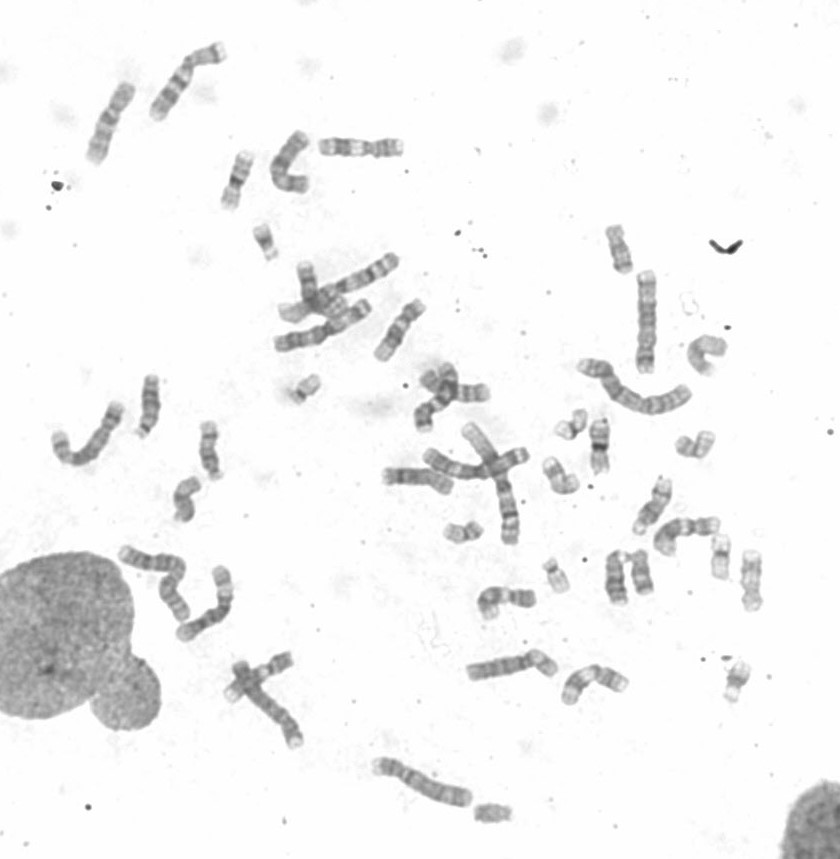chromosomes: (271, 249, 404, 328), (457, 418, 523, 546), (148, 39, 235, 130), (230, 657, 308, 753), (576, 359, 695, 416), (116, 540, 197, 623), (270, 296, 375, 355), (370, 752, 475, 810), (49, 396, 124, 474), (82, 78, 142, 175), (166, 564, 235, 646), (419, 444, 532, 483), (368, 296, 429, 367), (218, 648, 296, 703), (561, 662, 633, 715), (270, 129, 321, 200), (465, 647, 560, 684), (415, 360, 459, 436), (297, 260, 350, 318), (420, 366, 497, 405), (632, 473, 675, 541), (650, 516, 723, 556), (636, 268, 662, 379), (376, 464, 458, 497), (218, 148, 257, 217), (132, 369, 167, 444), (474, 583, 537, 621), (317, 137, 407, 163), (686, 333, 734, 380), (585, 417, 618, 484), (197, 415, 228, 486), (740, 548, 769, 621), (170, 473, 202, 531), (604, 223, 636, 281), (718, 659, 756, 705), (604, 549, 633, 609), (542, 453, 582, 496), (669, 427, 719, 460), (552, 405, 591, 445), (250, 219, 280, 270), (540, 552, 572, 599), (281, 373, 325, 406), (711, 530, 735, 585), (442, 518, 489, 546), (634, 549, 657, 600), (474, 801, 513, 830)
